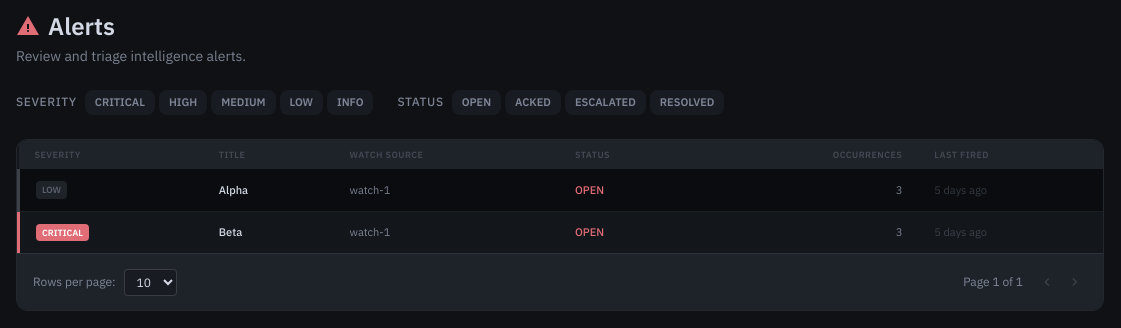
Test: AlertsPage › column headers are sortable
The image size is (1121, 328).
Expected: the table with test id "alerts-table" is shown, [17, 140, 1103, 253]
Click the column heading with test id "sort-header-severity": point(58, 154) [18, 140, 203, 169]
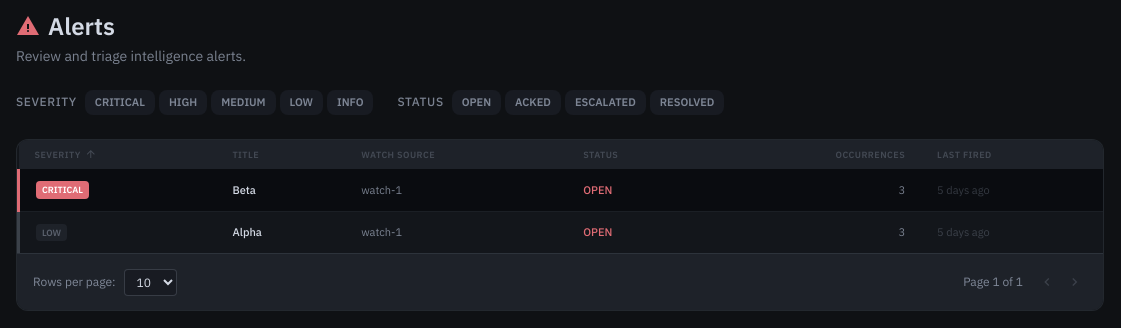
Expected: the text "arrow_upward" next to "Title" is shown, [85, 147, 97, 161]
